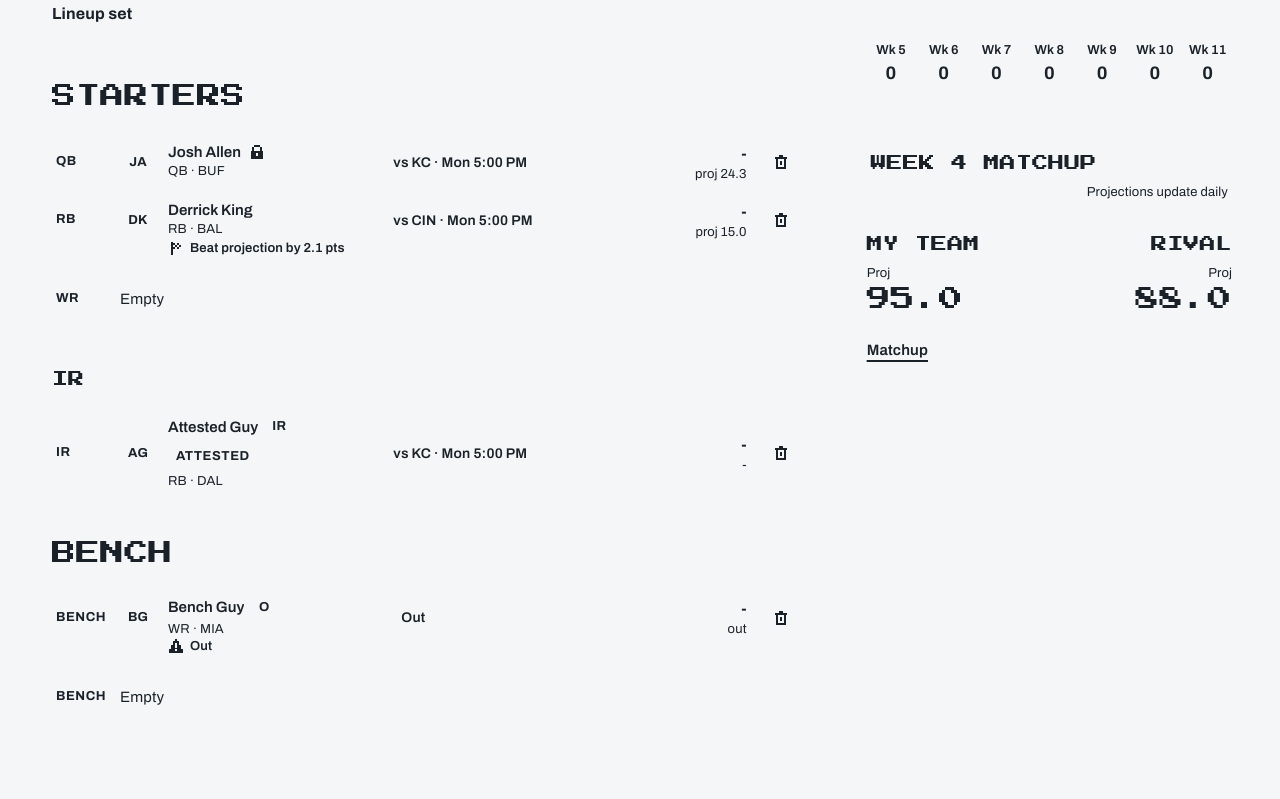
Scenario: the injury tile renders at page level
(page scrolled)
Click the button "Bench Guy".
click(206, 607)  # box [168,585,244,629]
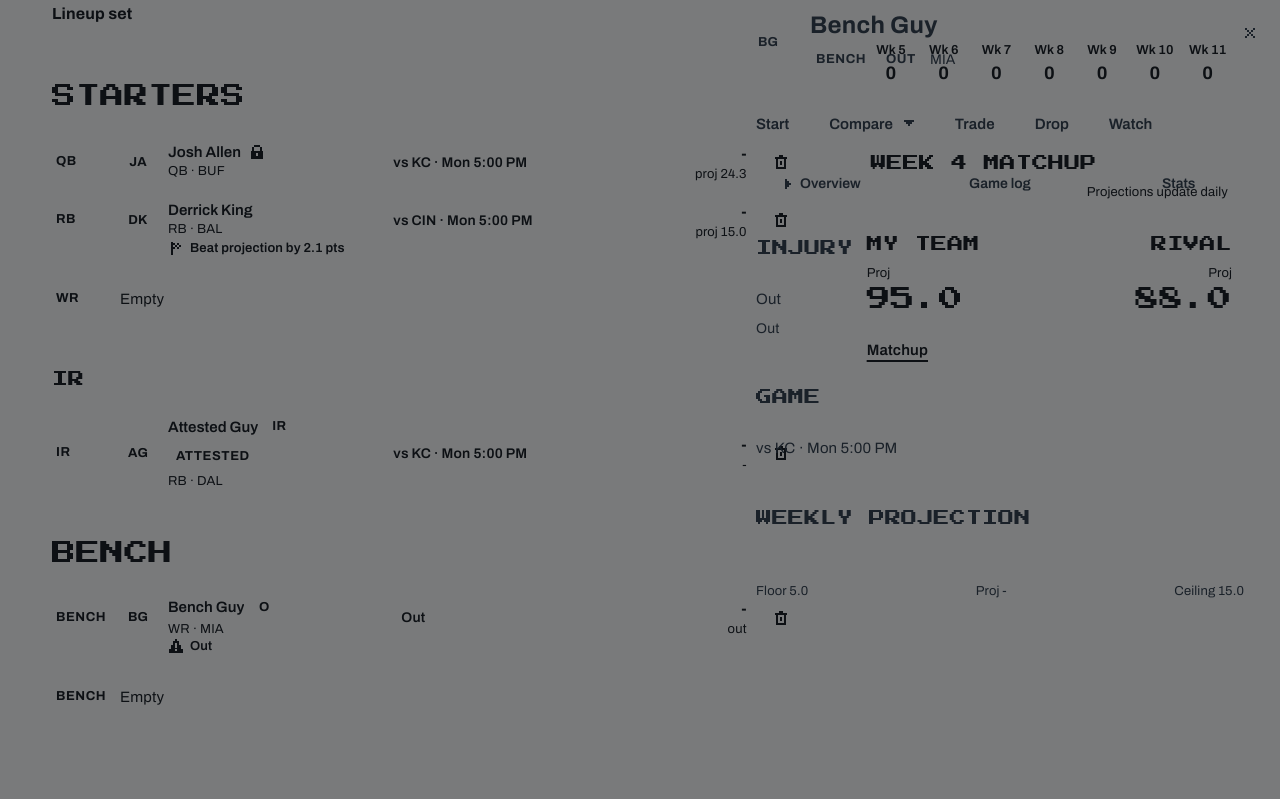
Expected: the element with test id "decision-card-injury" shows "Out", [756,291,781,307]
